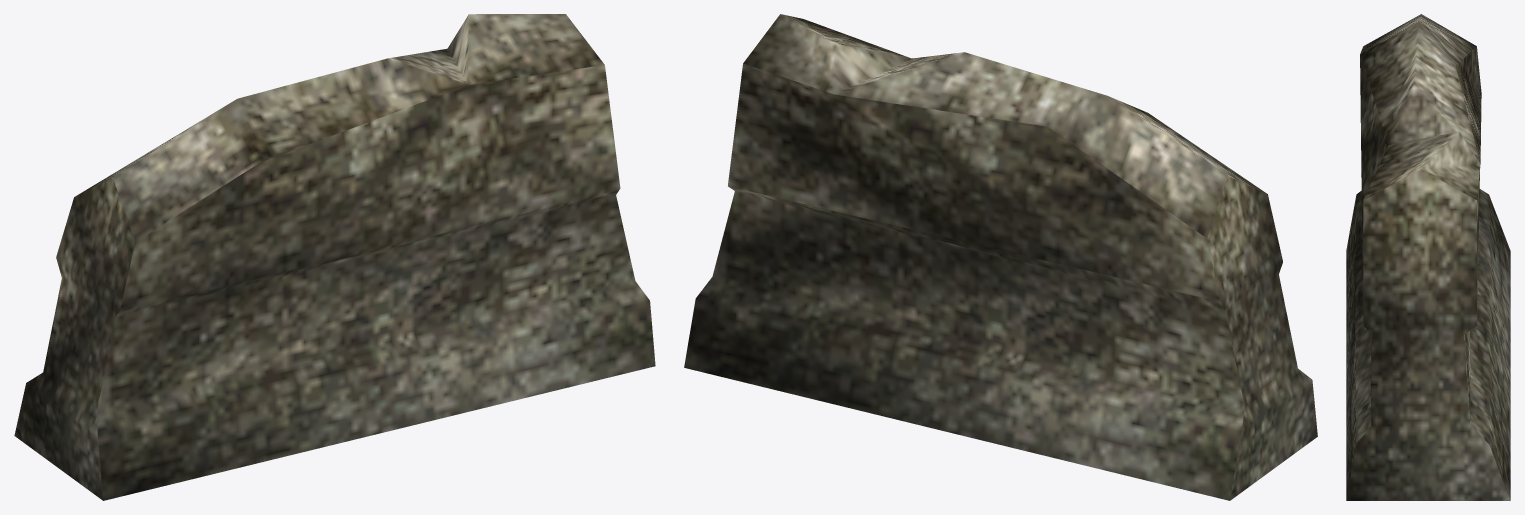
Rendered from b_general_obj_17.fbx.
The picture shows the model from 3 angles, left to right: view 1: azimuth 30°, elevation 25°; view 2: azimuth 150°, elevation 25°; view 3: azimuth 270°, elevation 25°; orthographic projection. The views are drawn at different scales.
Visible parts, largest first — view 1: Object01; view 2: Object01; view 3: Object01.
Part boxes in pixels (box(x1,y1,x2,y2)): Object01: box(14, 14, 655, 500); Object01: box(684, 14, 1317, 500); Object01: box(1346, 14, 1510, 500).
Size of the model in its own units: 1.86 by 1.09 by 0.5184.
